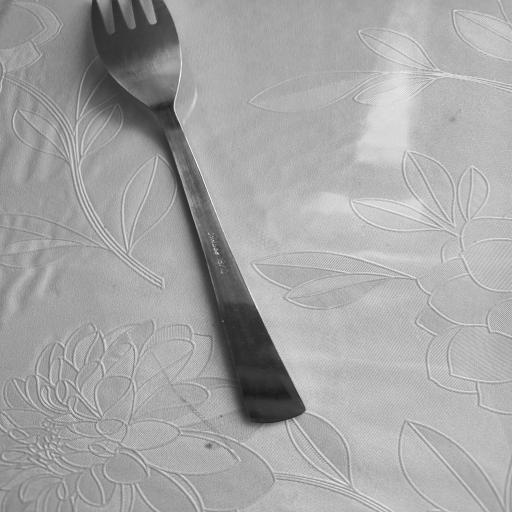fork: (90, 0, 308, 426)
